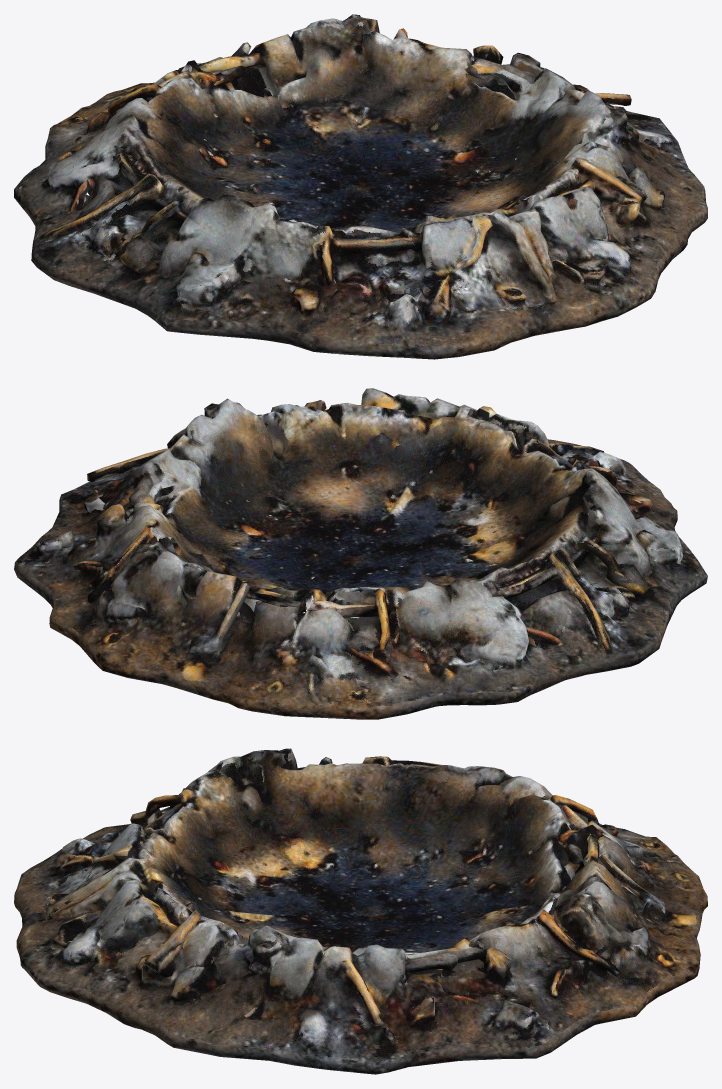
The model's file is t5-crater-scorch.glb.
3 views of the same model, one above another, from view 1: azimuth 30°, elevation 25°; view 2: azimuth 150°, elevation 25°; view 3: azimuth 270°, elevation 25° (orthographic). The views are drawn at different scales.
Visible parts, largest first — view 1: t5-crater-scorch.glb; view 2: t5-crater-scorch.glb; view 3: t5-crater-scorch.glb.
Part boxes in pixels (bbox=[...]): t5-crater-scorch.glb: bbox=[14, 14, 707, 359]; t5-crater-scorch.glb: bbox=[14, 388, 707, 719]; t5-crater-scorch.glb: bbox=[14, 748, 707, 1074].
Bounding box in the file's own units: 1 × 0.1501 × 0.9991.
1 material, 1 textured.
